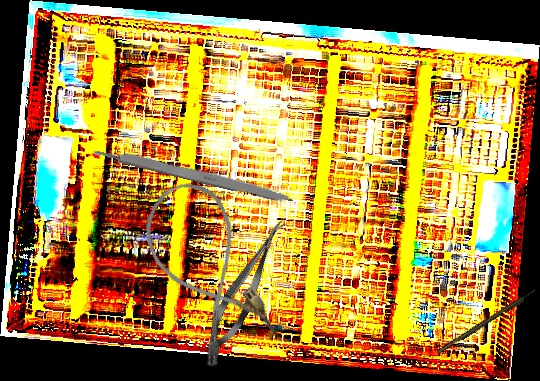Cannula: (131, 171, 281, 371)
Hook Surgical: (436, 288, 538, 355)
Micro Scissor: (198, 212, 295, 359)
Scalpel Handle: (93, 142, 295, 206)
